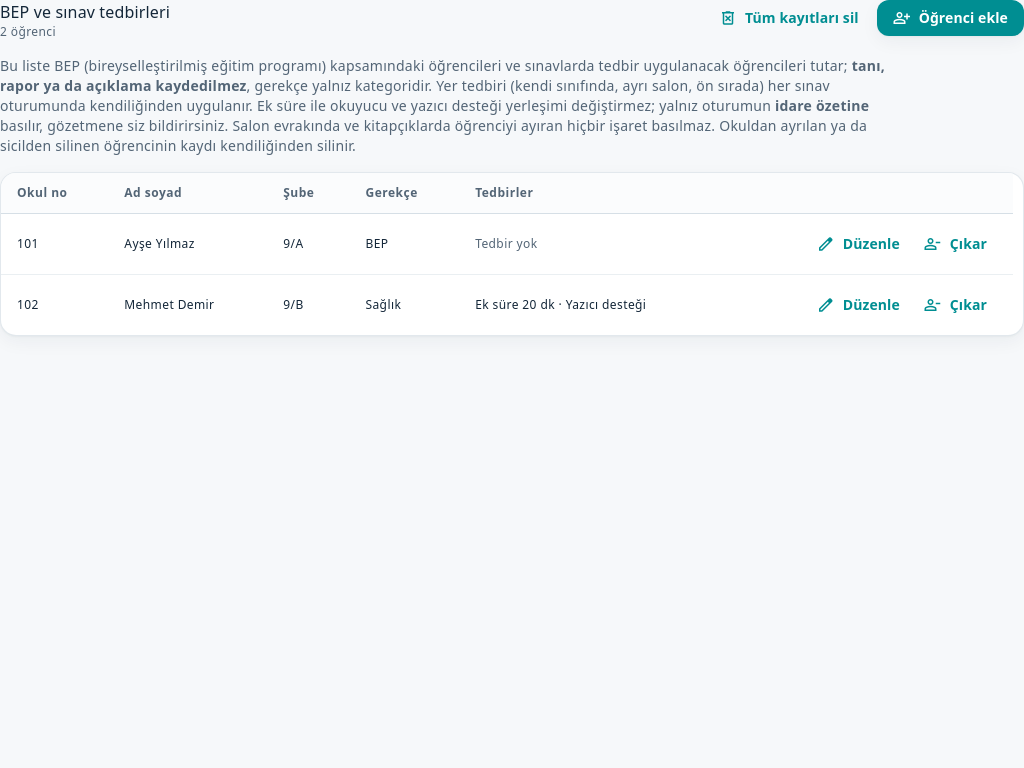
it: BepListesiPaneli › öğrenci ekleme penceresi: aramadan seçilir, tedbirsiz BEP üyeliği gönderilir
Check: the text "Ayşe Yılmaz" is shown, box [108,214,267,274]
Click the button "Öğrenci ekle" at point(950, 18), box [877,0,1023,36]
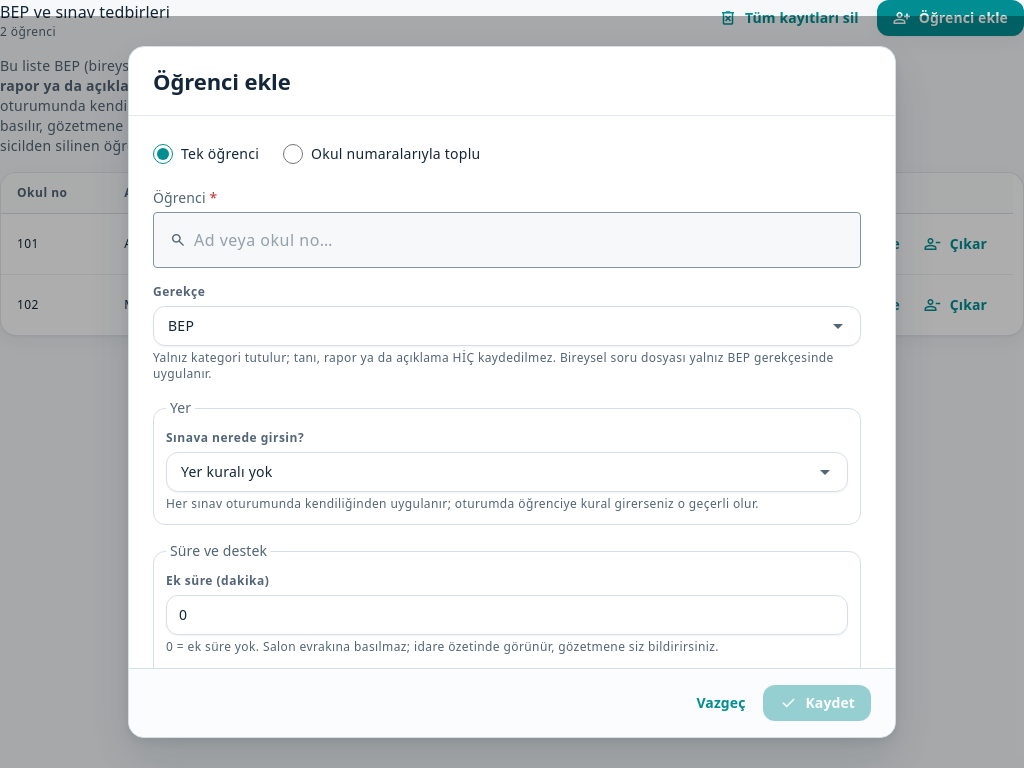
Check: the button "Kaydet" is disabled, box [764,685,871,721]
Type "Zey" into the dropdown labelled "Öğrenci *" at point(519, 240), box [194,228,844,252]
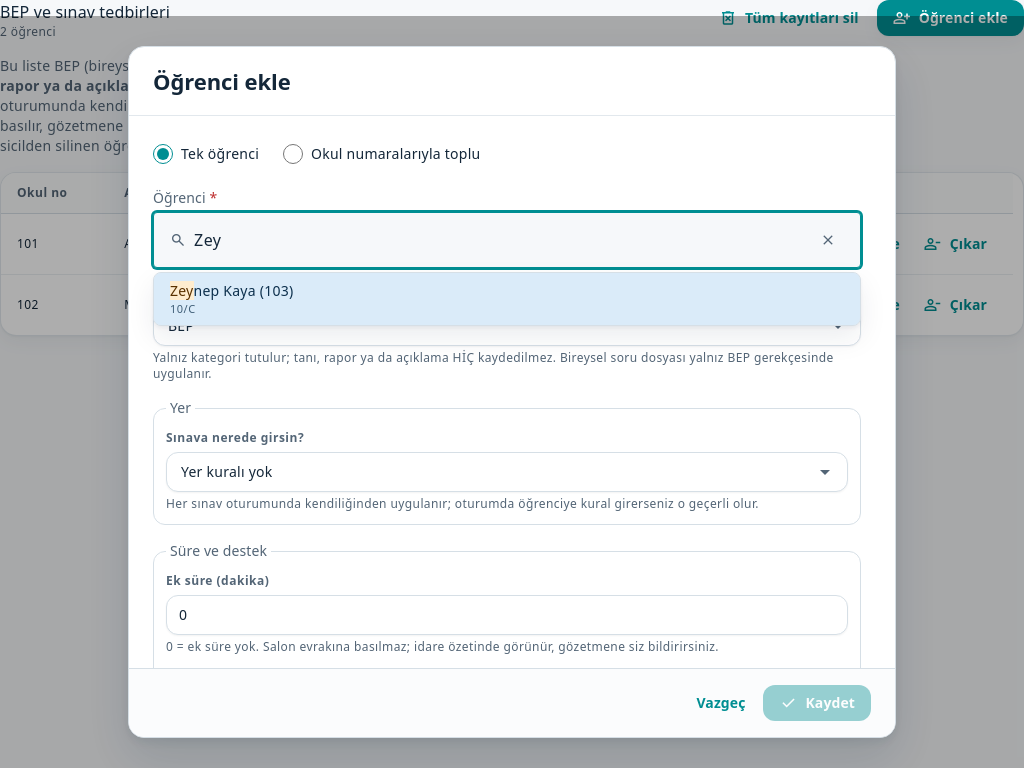
Click the option "Zeynep Kaya (103) 10/C" at point(243, 291), box [154,273,860,325]
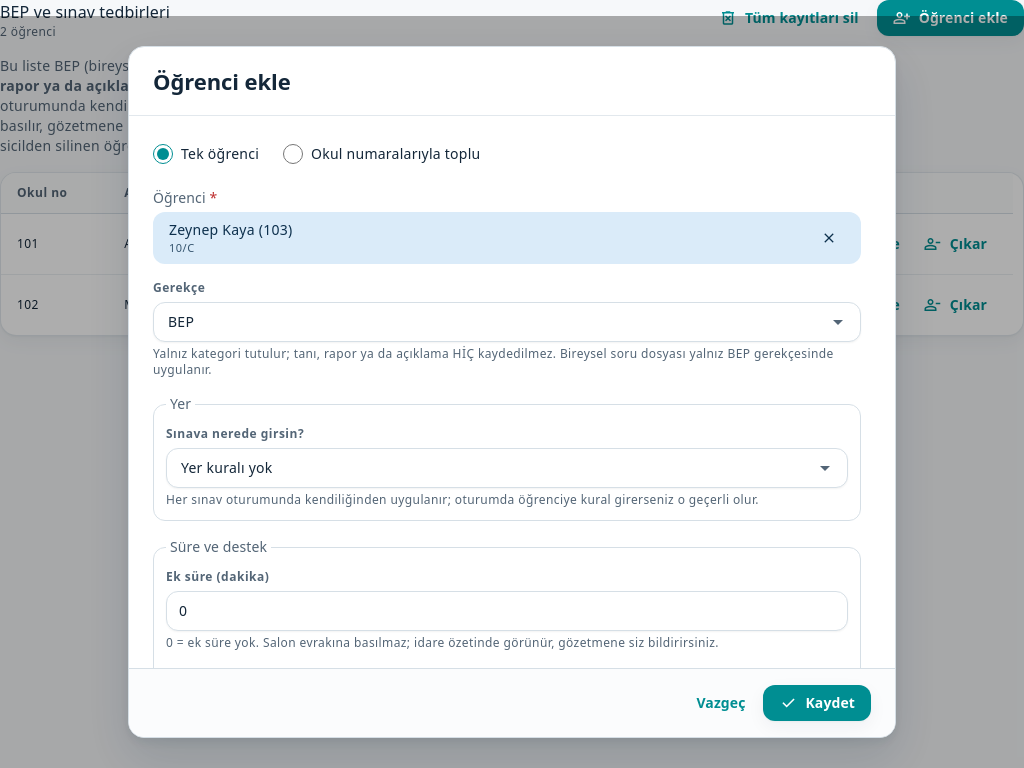
Click the button "Kaydet" at point(817, 703), box [764,685,871,721]
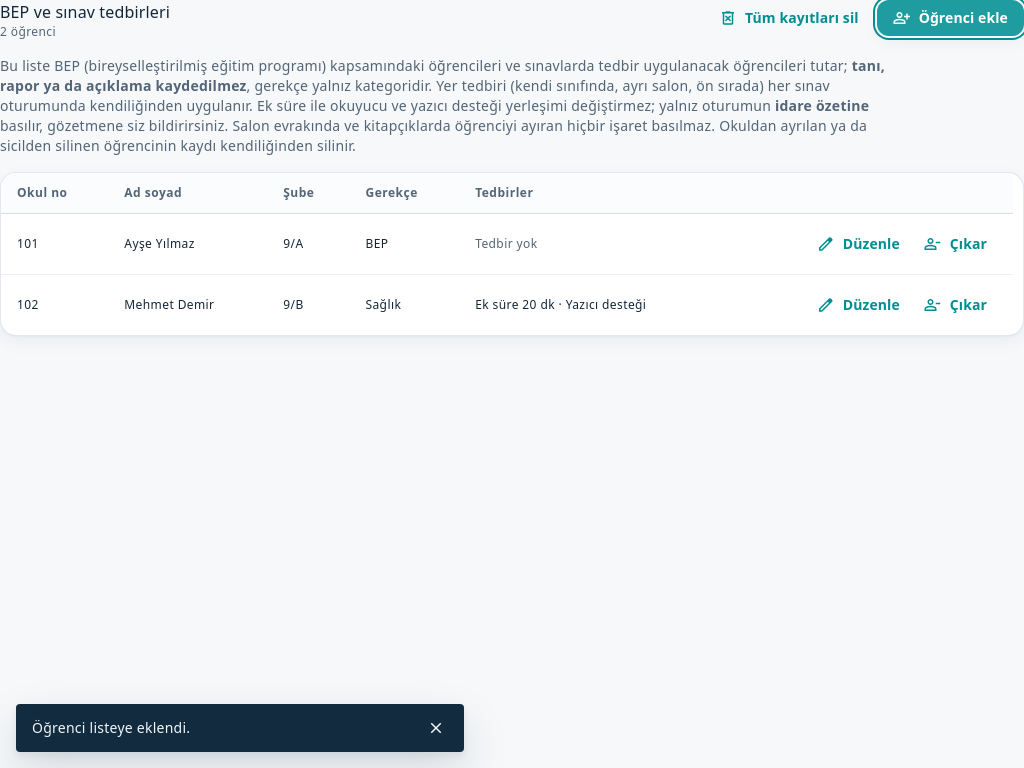
Check: the text "Öğrenci listeye eklendi." is shown, box [32,718,190,737]
